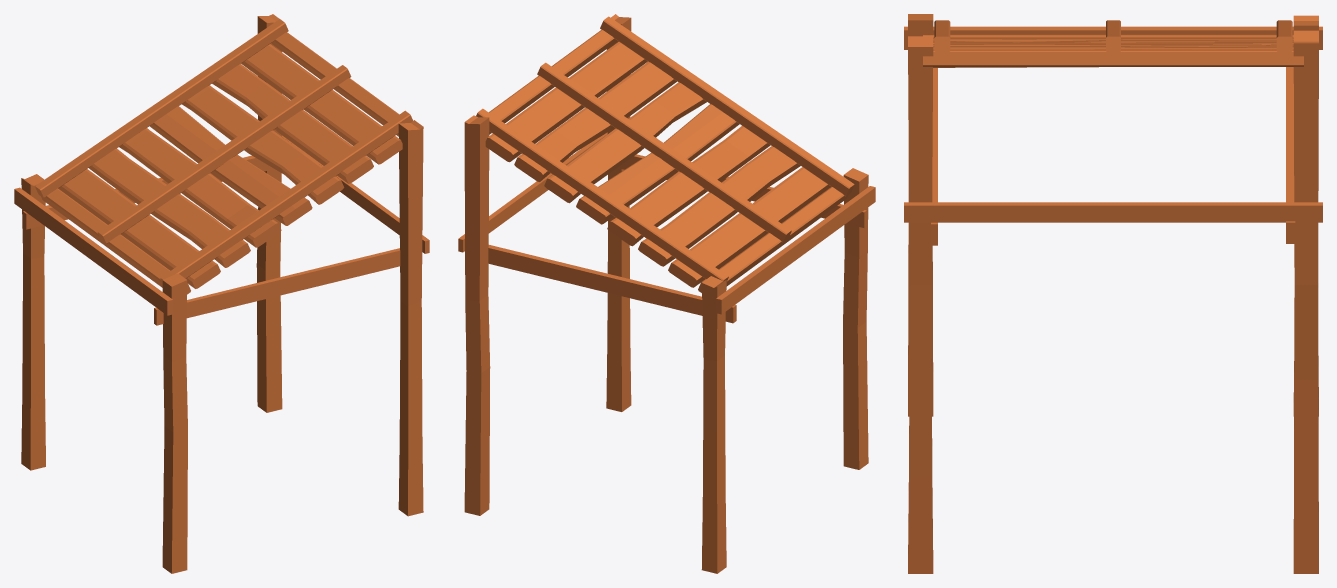
File: WoodBase3.fbx
3 views of the same model, side by side, from view 1: azimuth 30°, elevation 25°; view 2: azimuth 150°, elevation 25°; view 3: azimuth 270°, elevation 25° (orthographic). The views are drawn at different scales.
Visible parts, largest first — view 1: WoodBase3; view 2: WoodBase3; view 3: WoodBase3.
Part boxes in pixels (left/top/right/bottom): WoodBase3: left=14, top=14, right=429, bottom=573; WoodBase3: left=458, top=14, right=875, bottom=573; WoodBase3: left=904, top=14, right=1322, bottom=573.
Size of the model in its own units: 200 by 282 by 200.
